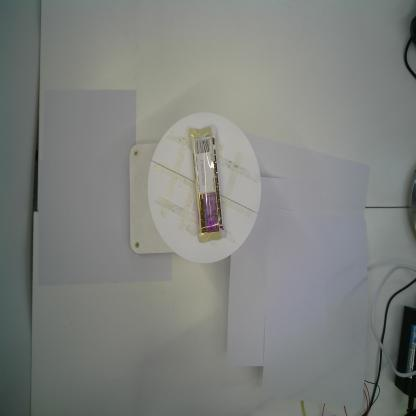Chocolate: (190, 125, 226, 244)
